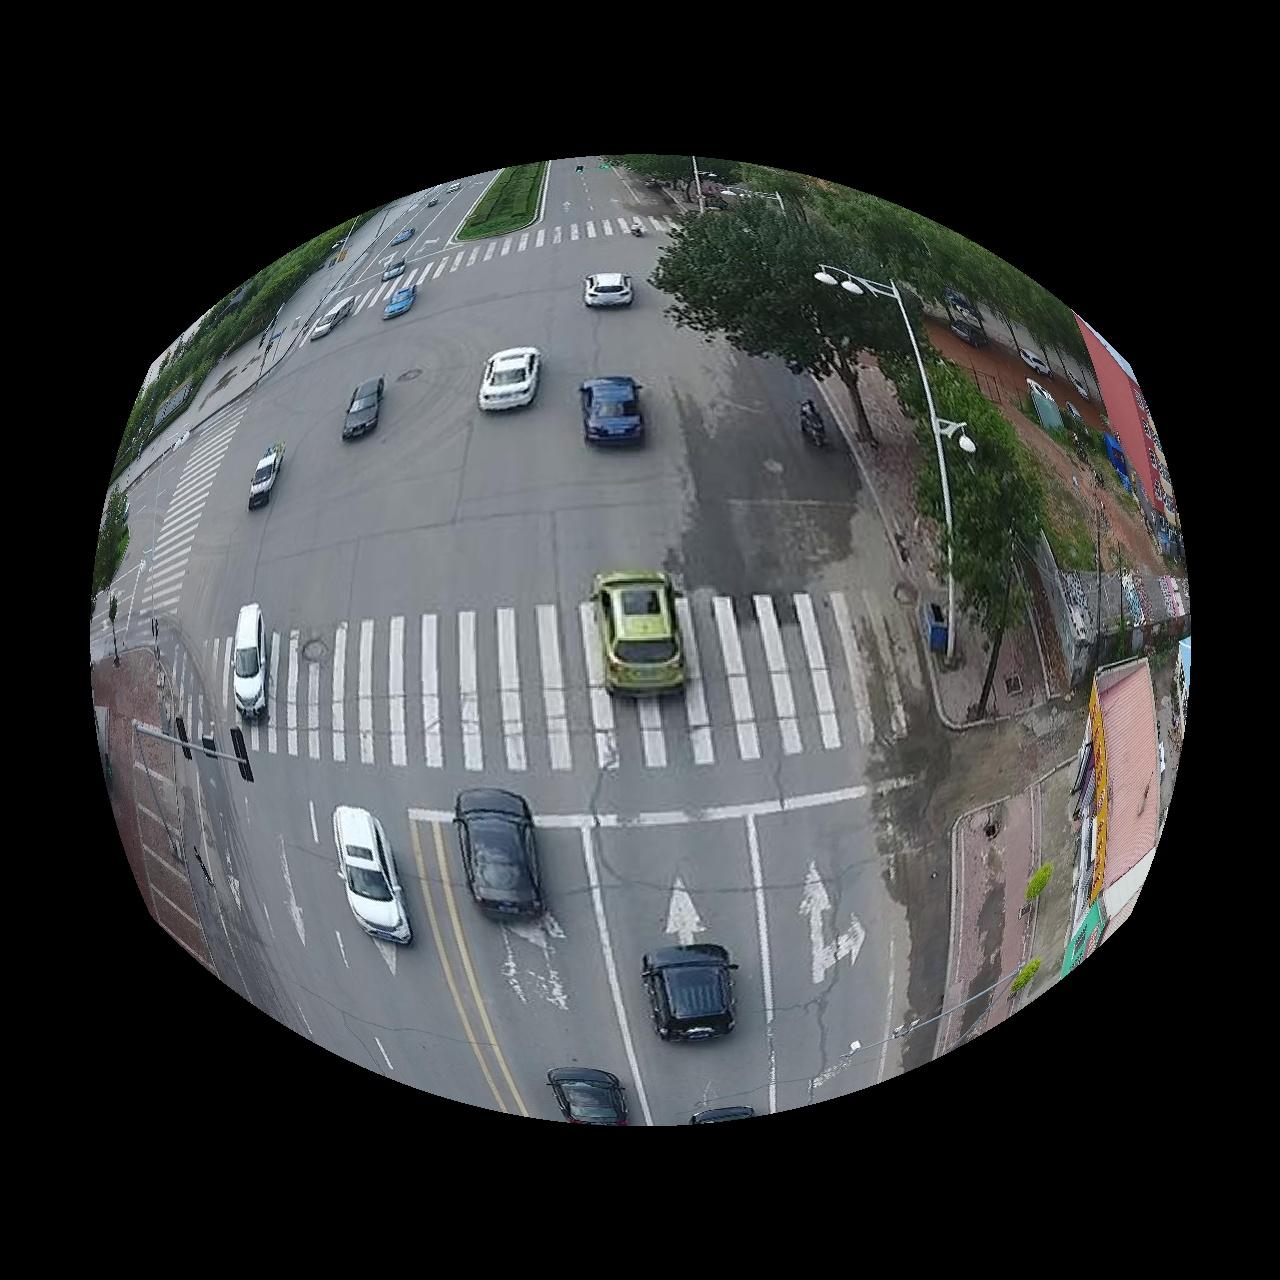cars: (455, 791, 544, 917), (332, 808, 411, 946), (595, 572, 686, 694), (644, 946, 738, 1043), (549, 1069, 628, 1126), (231, 604, 266, 720), (581, 377, 644, 443), (478, 348, 542, 410), (341, 376, 383, 440), (247, 441, 282, 509), (307, 295, 354, 340), (584, 272, 634, 306), (382, 284, 416, 319)
